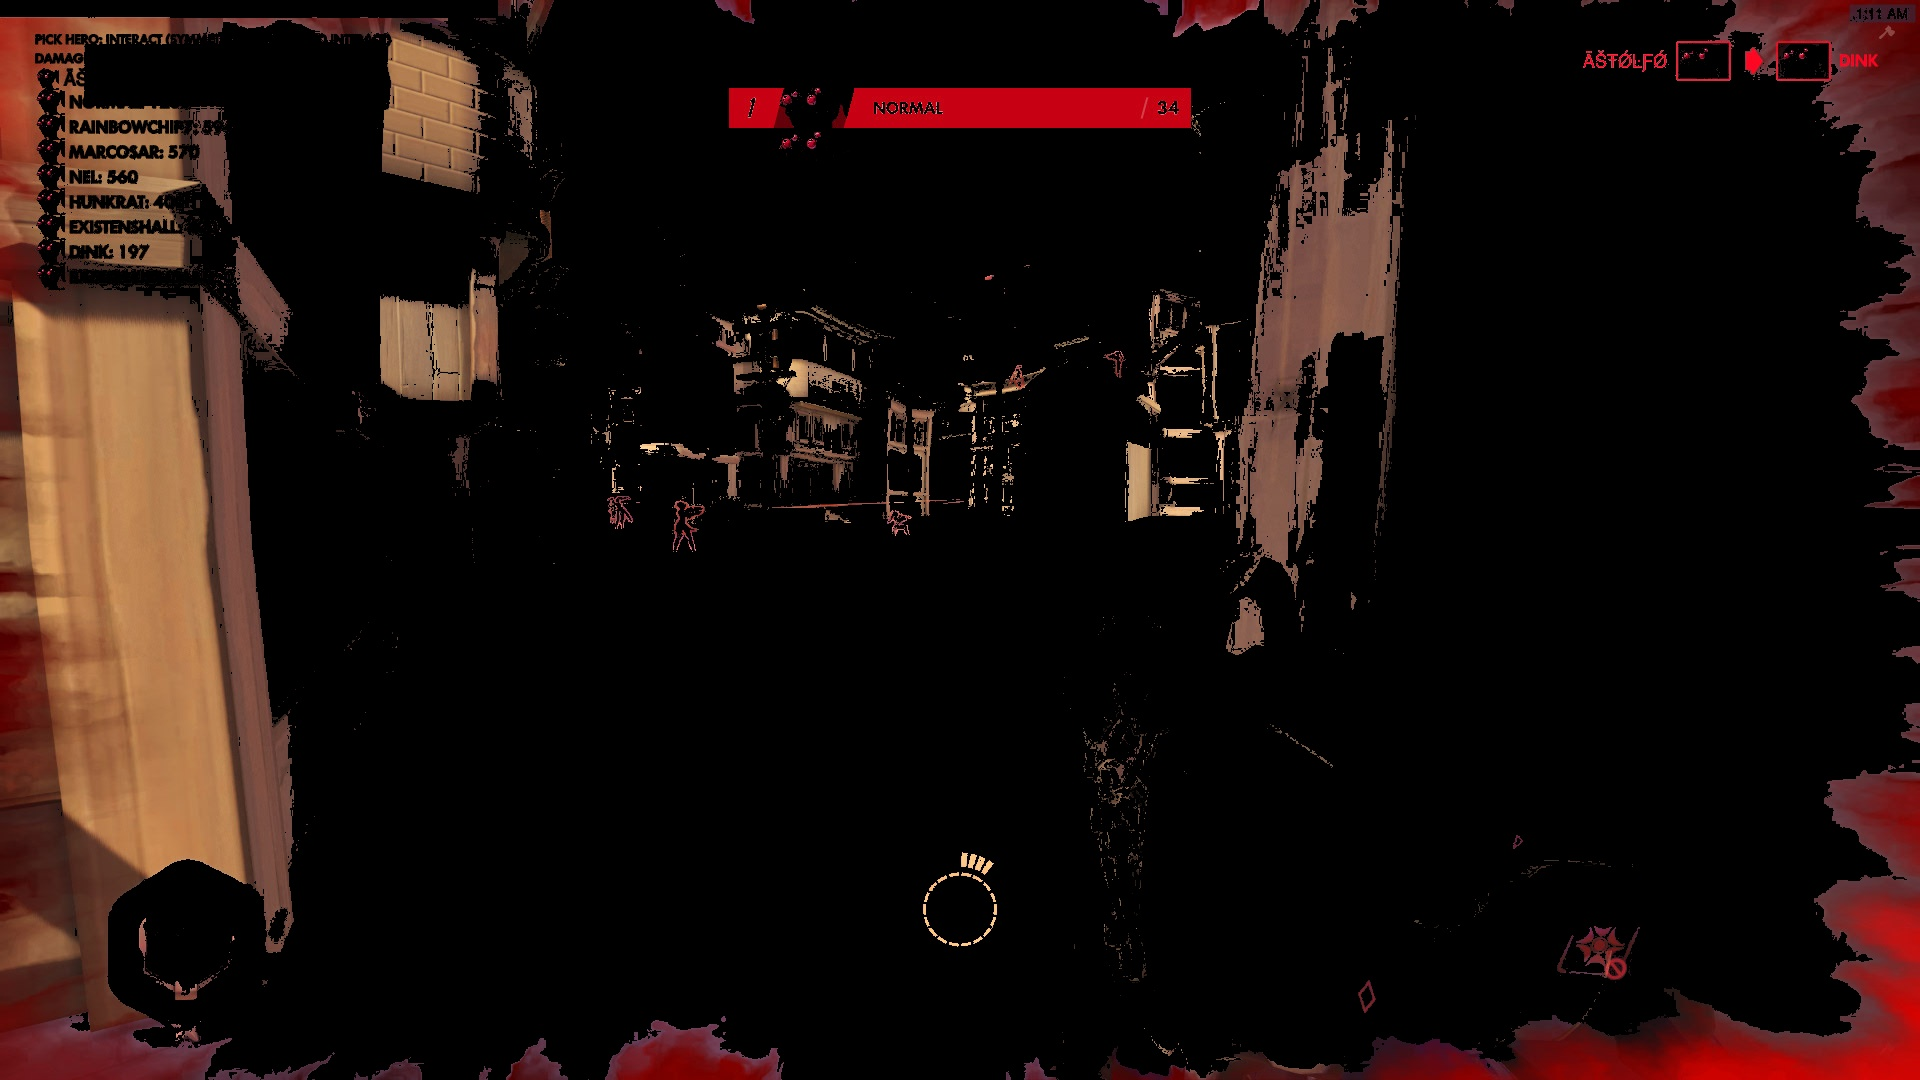widowmaker: (666, 498, 705, 560), (603, 495, 637, 535), (885, 508, 913, 542), (1102, 349, 1127, 380), (1007, 363, 1029, 396)
